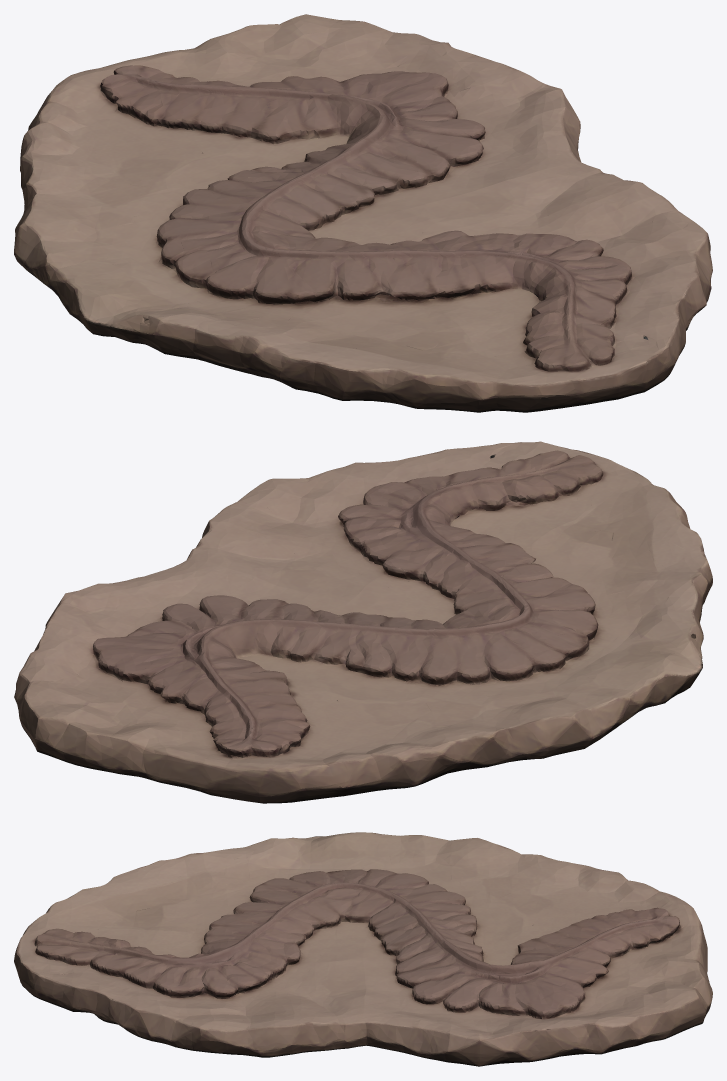
3 views of the same model, one above another, from view 1: azimuth 30°, elevation 25°; view 2: azimuth 150°, elevation 25°; view 3: azimuth 270°, elevation 25° (orthographic). The views are drawn at different scales.
Visible parts, largest first — view 1: world; view 2: world; view 3: world.
Boxes of the visible parts, x1,y1,x2,y2 form: world: (14, 14, 712, 412); world: (14, 441, 712, 803); world: (14, 832, 712, 1066).
Size of the model in its own units: 0.2062 by 0.0205 by 0.28.
Materials: 1 (1 with a texture image).
